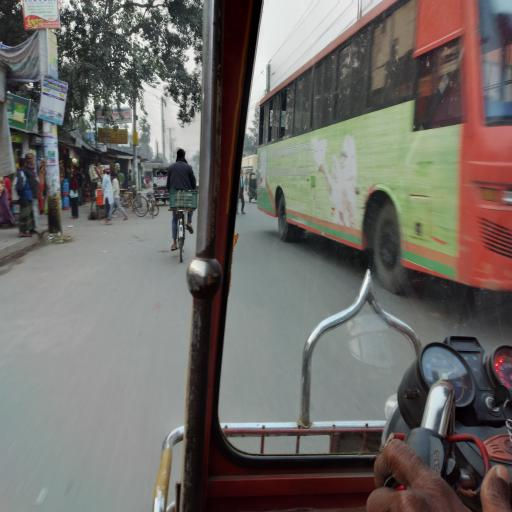auto rickshaw: (152, 167, 172, 207), (248, 172, 261, 204)
bicycle: (167, 150, 198, 269), (147, 187, 162, 221)
bus: (257, 2, 512, 305)
rickshaw: (89, 165, 150, 219)
